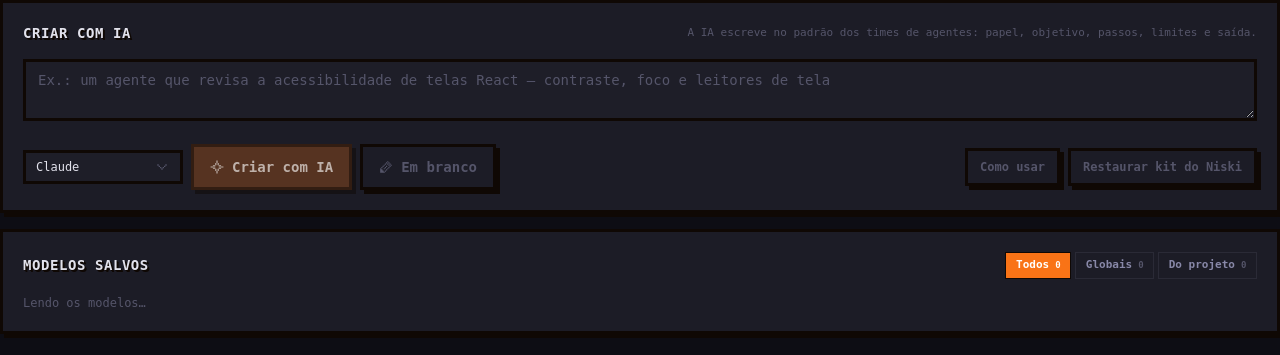
Scenario: avisa que modelos do projeto precisam de um projeto aberto
What coordinates should you click on to do the following:
click the tab "Do projeto 0"
I would click on:
 (1208, 265)
Its box is [1158, 252, 1257, 278].
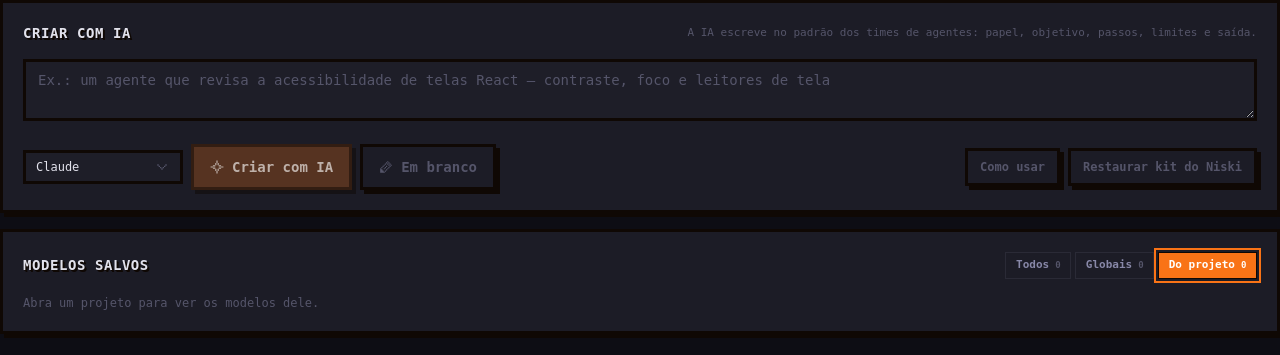
Check: the text "Abra um projeto para ver os modelos dele." is shown, box [23, 296, 319, 310]
